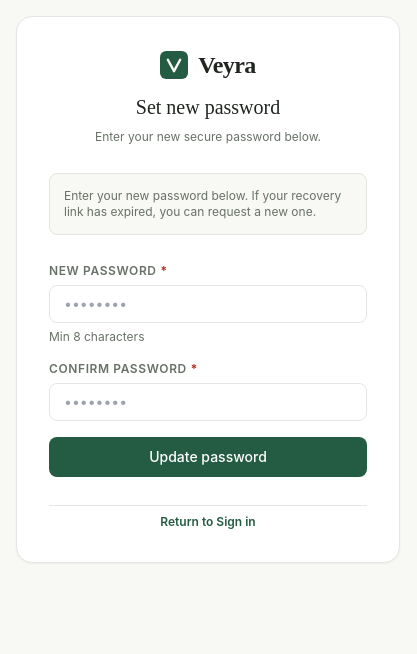
Scenario: Authentication Pages & Form Validation › ResetPasswordPage › validates password matching on reset form
Type "password123" into the password field labelled "New Password*" at (208, 304), box [49,285,367,323]
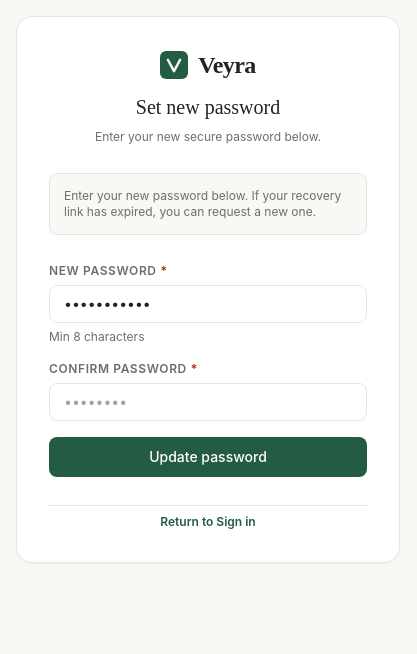
Type "mismatch123" into the password field labelled "Confirm Password*" at (208, 402), box [49,383,367,421]
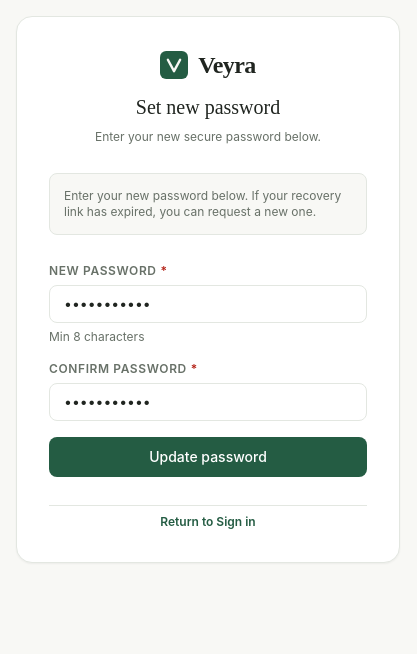
Click the button "Update password" at (208, 457), box [49,437,367,477]
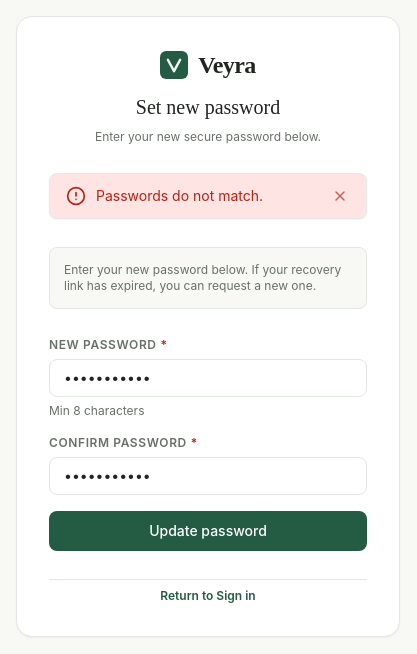
Expected: the text "Passwords do not match." is shown, [96,186,263,206]
